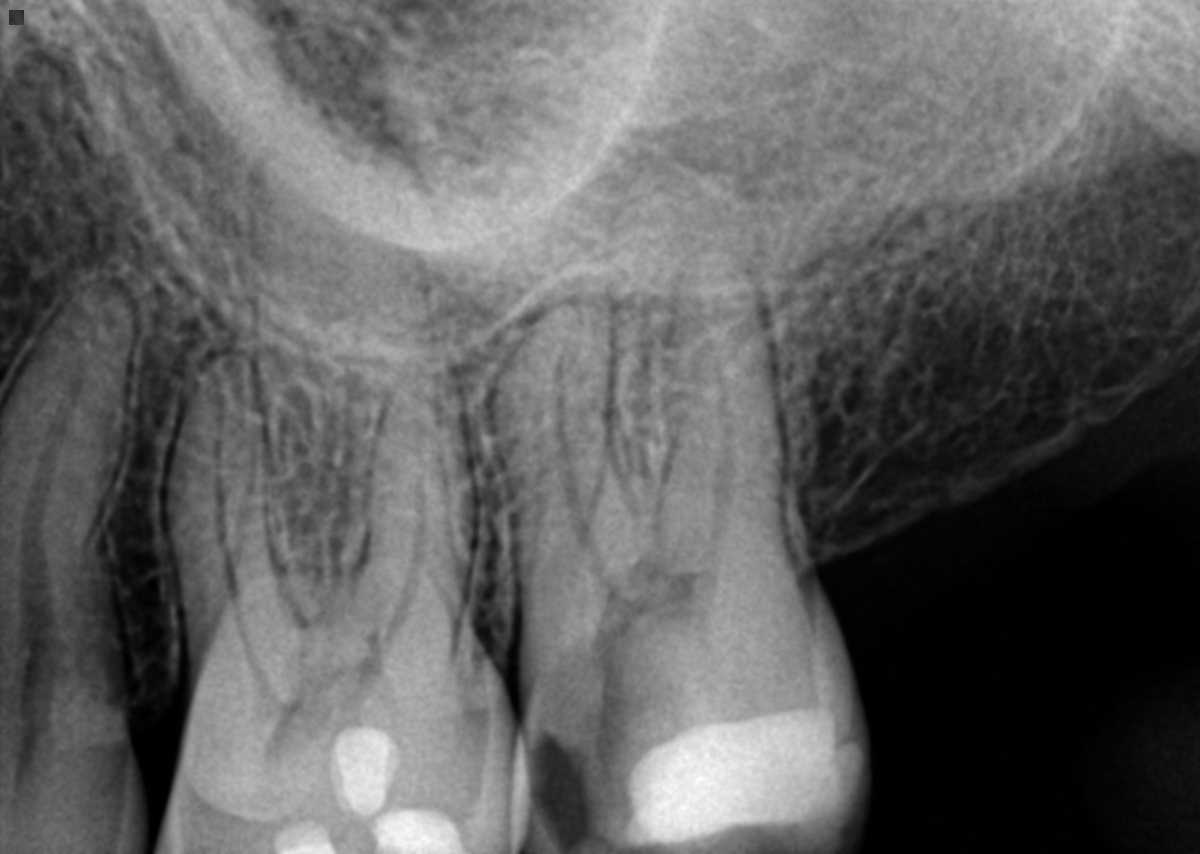Apical Lesion: (549, 115, 741, 256), (259, 81, 408, 157), (504, 273, 622, 356)
Distal Canal: (380, 384, 430, 642), (698, 316, 737, 550)
Distal Root: (653, 251, 795, 558), (346, 345, 480, 636)
Main Canal: (15, 369, 93, 688)
Main Root: (0, 272, 142, 701)
Mesial Canal: (209, 369, 271, 692), (556, 330, 621, 592)
Mesial Root: (159, 353, 314, 675), (493, 314, 637, 637)
Palatal Root: (192, 123, 479, 658), (562, 160, 808, 623)
decay: (532, 624, 692, 850)
